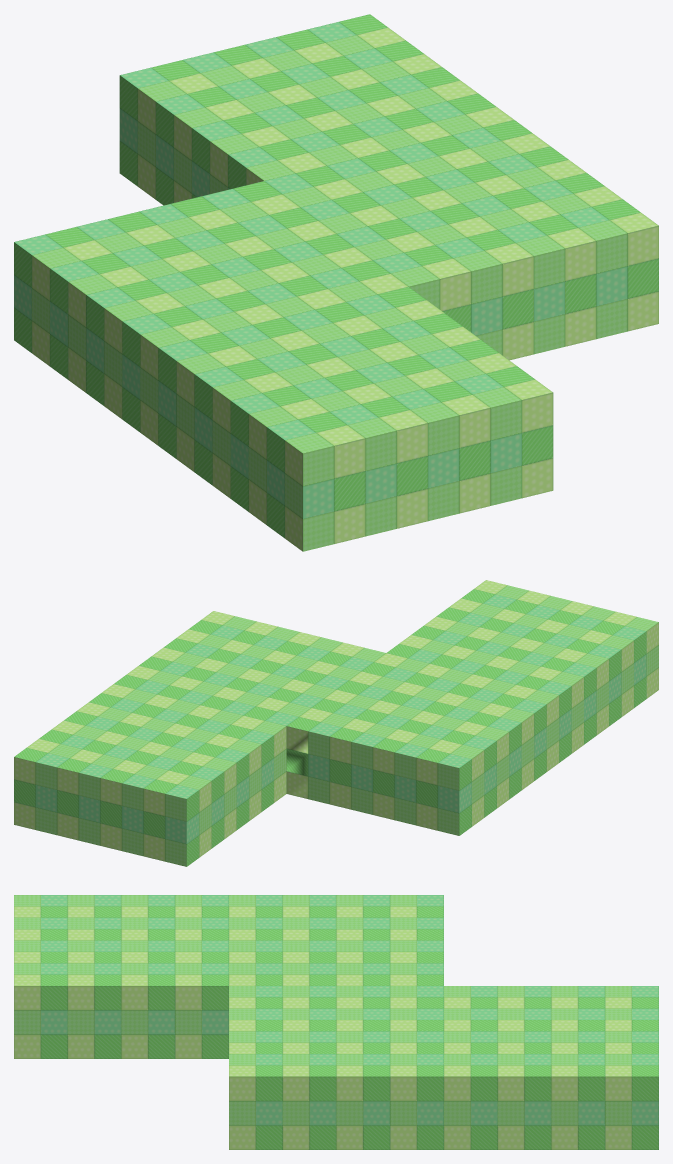
File: platform_005.FBX
3 views of the same model, one above another, from view 1: azimuth 30°, elevation 25°; view 2: azimuth 150°, elevation 25°; view 3: azimuth 270°, elevation 25° (orthographic). The views are drawn at different scales.
Visible parts, largest first — view 1: platform_005; view 2: platform_005; view 3: platform_005.
Part boxes in pixels (<box>): platform_005: <box>14,14,658,551</box>; platform_005: <box>14,580,658,866</box>; platform_005: <box>14,895,658,1149</box>.
Size of the model in its own units: 1600 by 300 by 2400.
